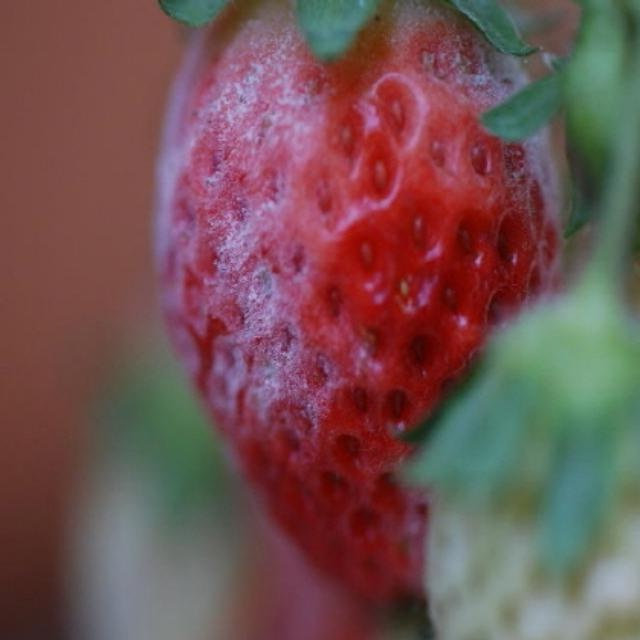Powdery Mildew Fruit: (155, 0, 606, 469)
